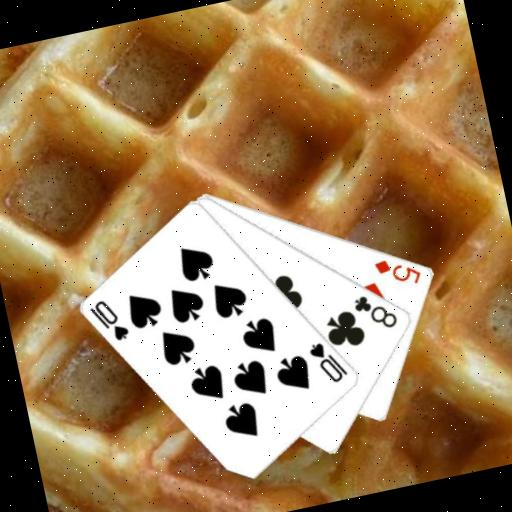10S: (85, 292, 133, 347), (304, 334, 351, 388)
5D: (370, 249, 425, 293)
8C: (349, 285, 401, 336)
